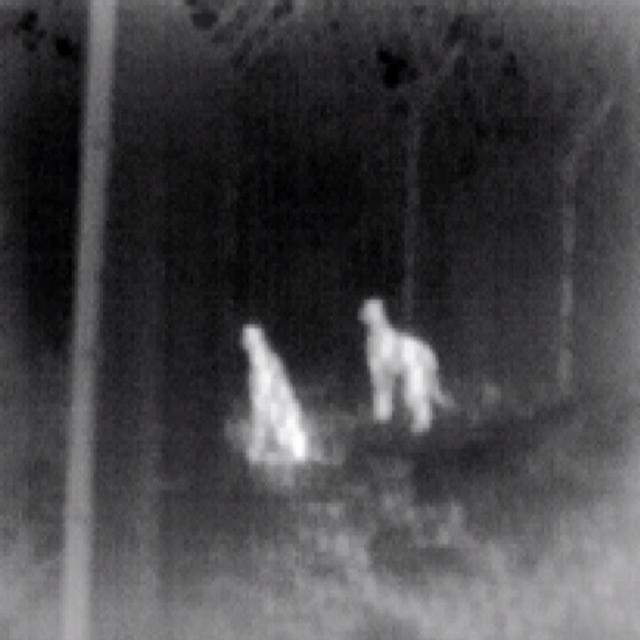cheetah: (360, 297, 451, 433), (241, 324, 308, 461)
